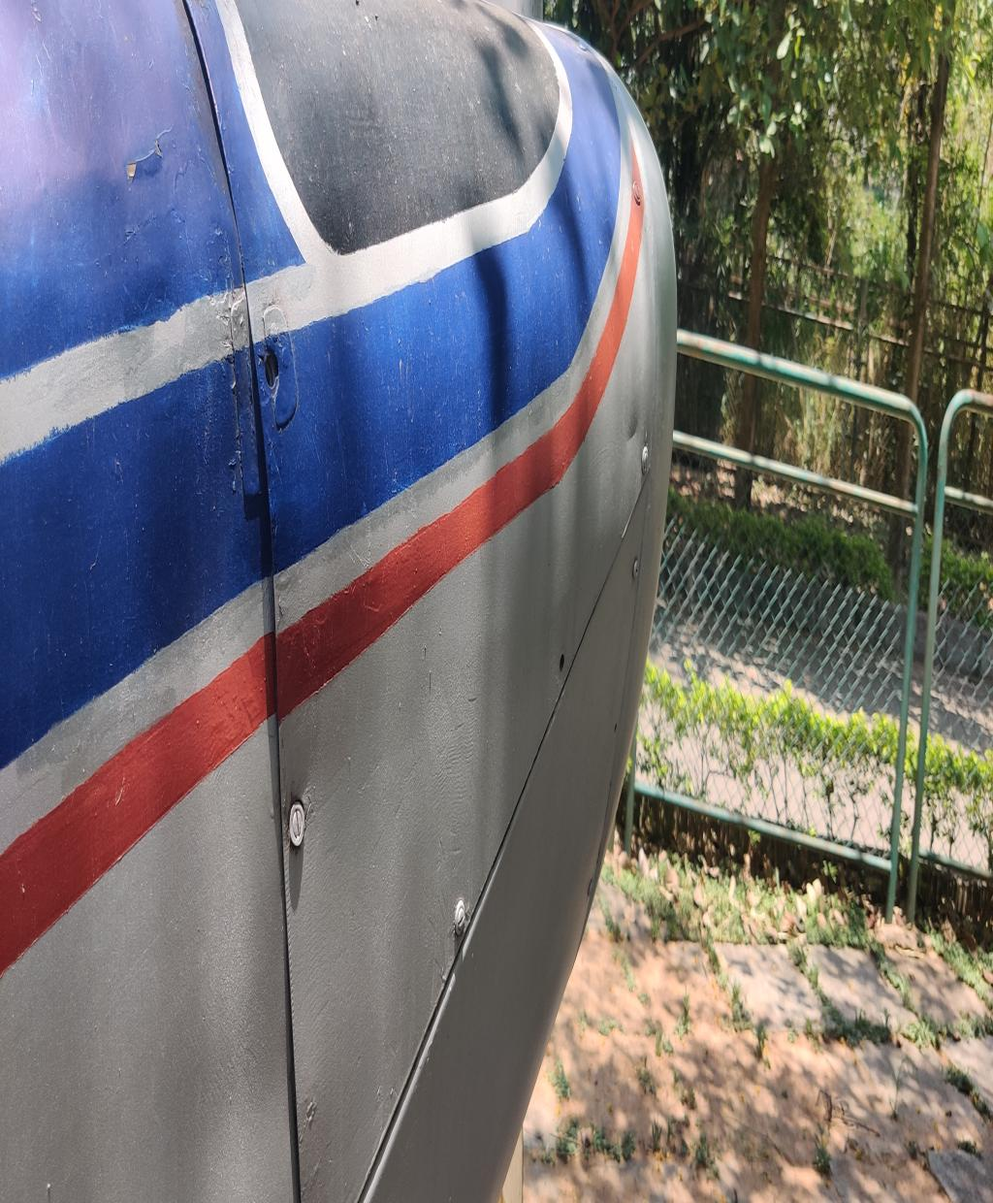dent: (617, 382, 647, 468)
